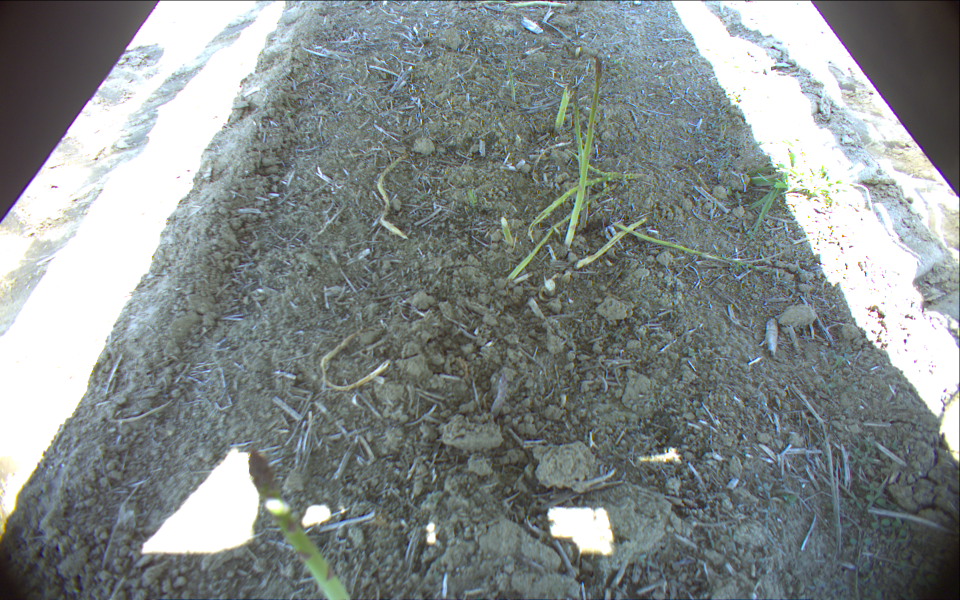aspa: (247, 451, 353, 600), (504, 191, 612, 282), (562, 55, 603, 246), (612, 223, 782, 265), (530, 177, 638, 239), (321, 334, 389, 397), (576, 220, 646, 271), (377, 154, 409, 240), (568, 152, 638, 179), (574, 88, 586, 185), (555, 86, 572, 132), (484, 1, 563, 9), (505, 64, 515, 100), (501, 216, 511, 247)
